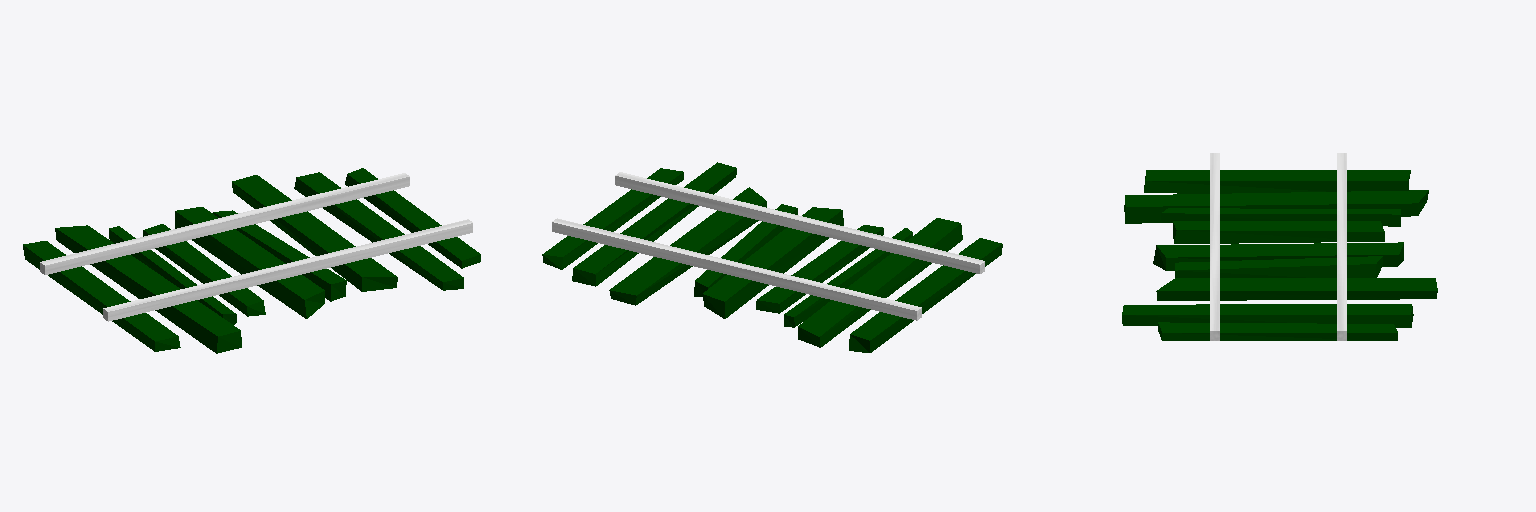
The picture shows the model from 3 angles: view 1: azimuth 30°, elevation 25°; view 2: azimuth 150°, elevation 25°; view 3: azimuth 270°, elevation 25°; orthographic projection.
Visible parts, largest first — view 1: Wood, Rails; view 2: Wood, Rails; view 3: Wood, Rails.
Part boxes in pixels (bbox=[...]): Wood: bbox=[23, 168, 480, 353]; Rails: bbox=[40, 173, 472, 321]; Wood: bbox=[542, 162, 1002, 352]; Rails: bbox=[552, 172, 984, 320]; Wood: bbox=[1122, 170, 1437, 340]; Rails: bbox=[1210, 153, 1346, 340].
Bounding box in the file's own units: 3.3 × 0.2419 × 2.47.
2 materials, 1 textured.